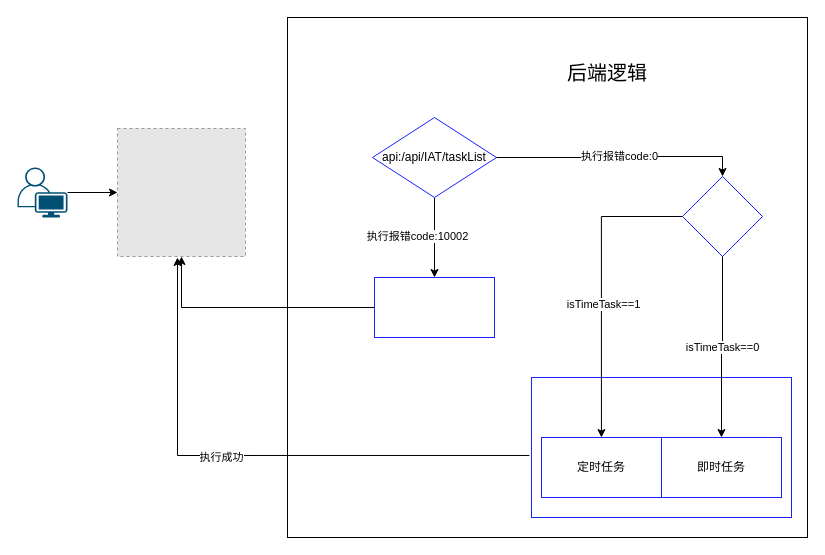
The diagram is 825 pixels wide and 555 high, and some of its shapes have lost their labels. Grey dashed boxes stand in for pictures. Here are the shapes that lost their labels. From the top down, the centre of each, then its label:
pixel 722 216: 任务类型
pixel 434 307: 任务复制失败
